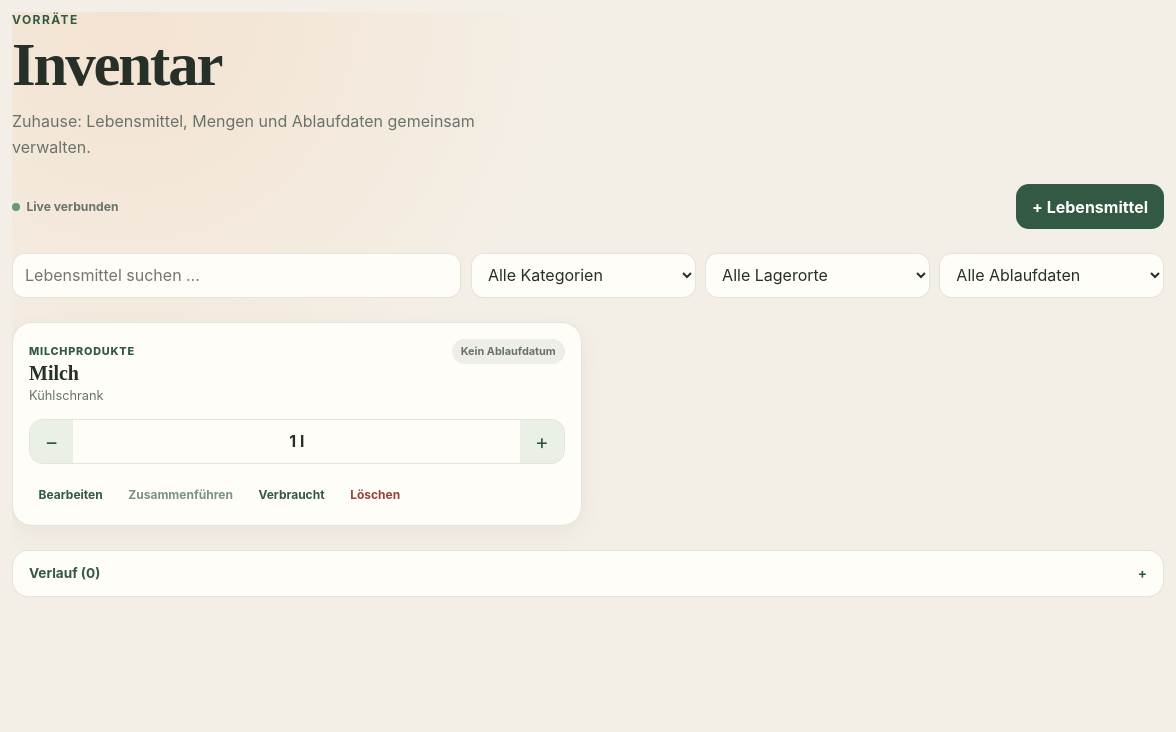
Test case: Inventarseite › ändert Mengen atomar und bietet Undo an
Click the button named "Milch erhöhen": (542, 441) [520,420,564,463]
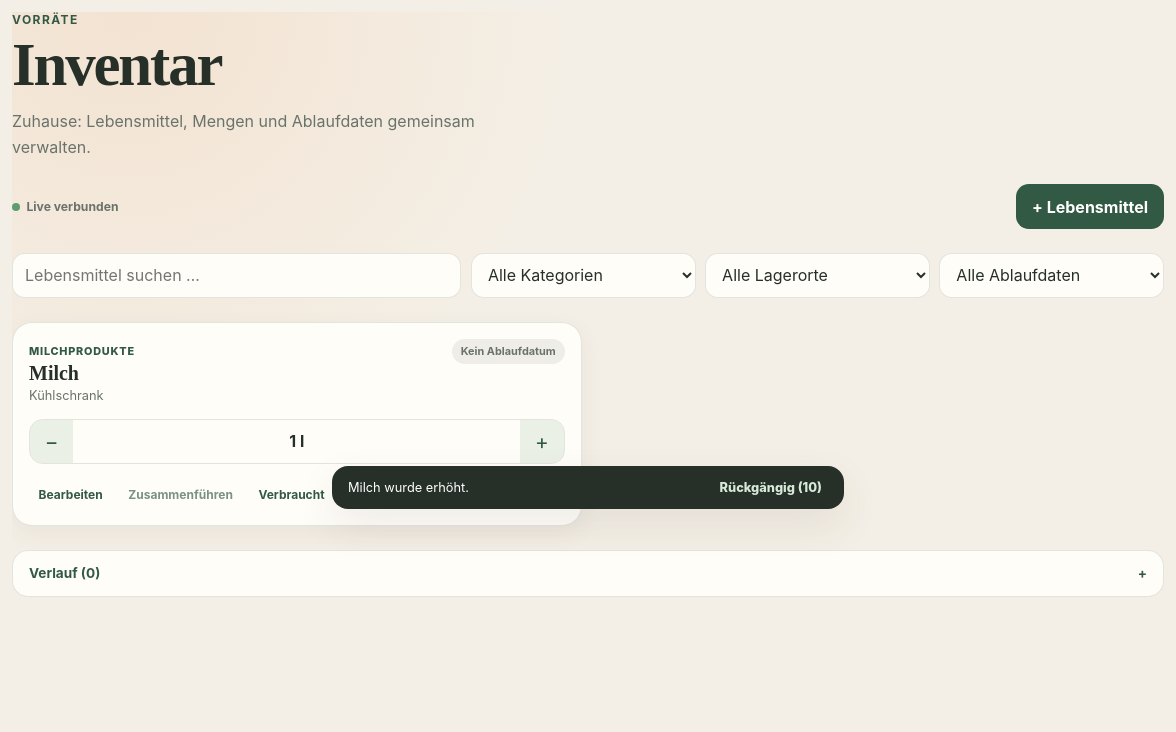
Now the button "Rückgängig (10)" is shown, box [714,479,828,496]
